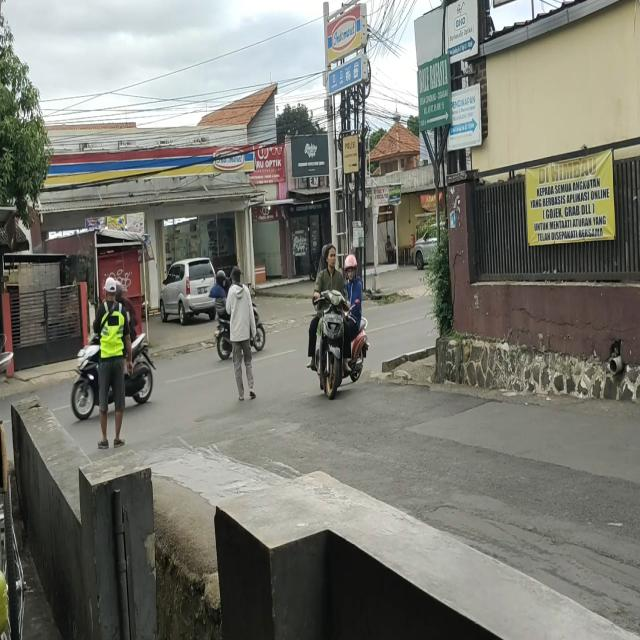helmet: (344, 256, 358, 281), (215, 269, 228, 287)
no-helmet: (325, 244, 337, 270)
